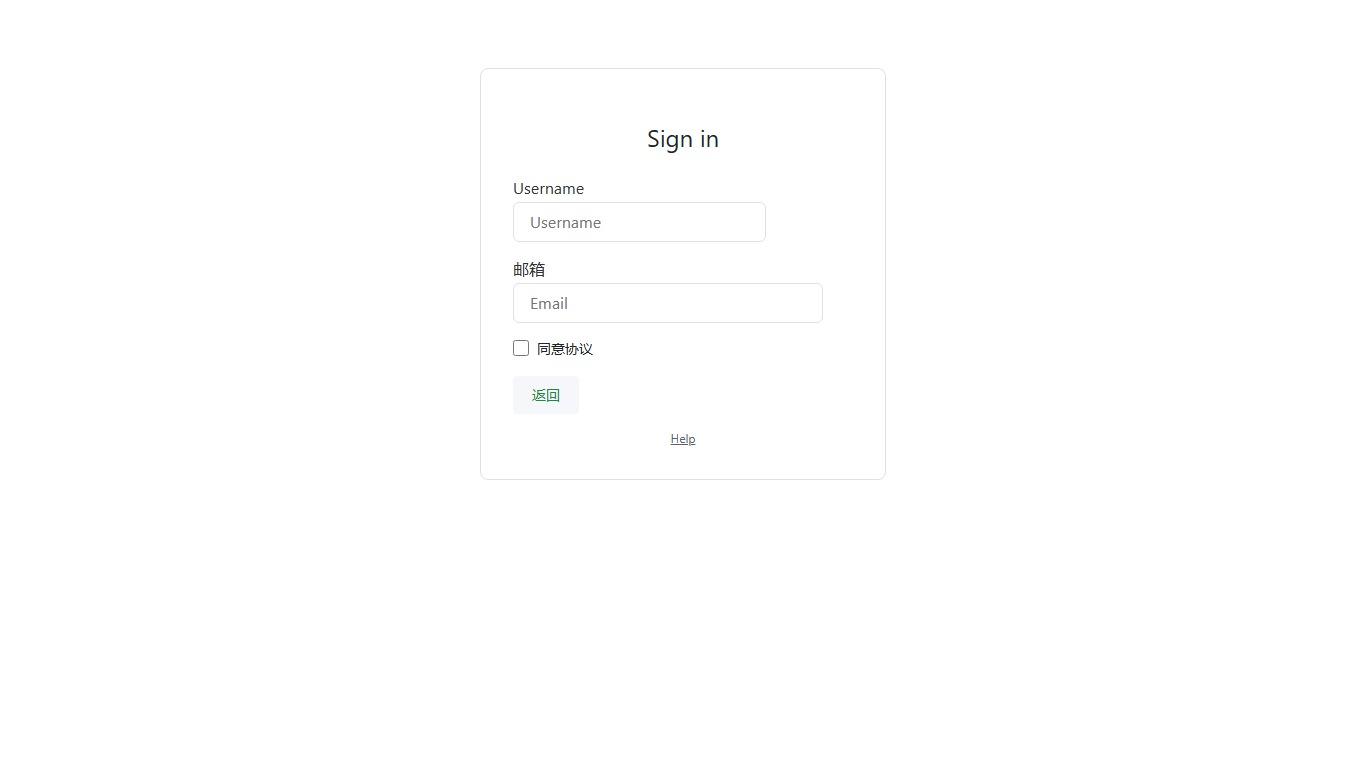button: (513, 376, 579, 414)
checkbox: (513, 340, 529, 356)
icon: (537, 339, 593, 358)
input: (513, 283, 823, 323), (513, 202, 766, 242)
link: (671, 430, 695, 446)
radio: (513, 339, 593, 358)
